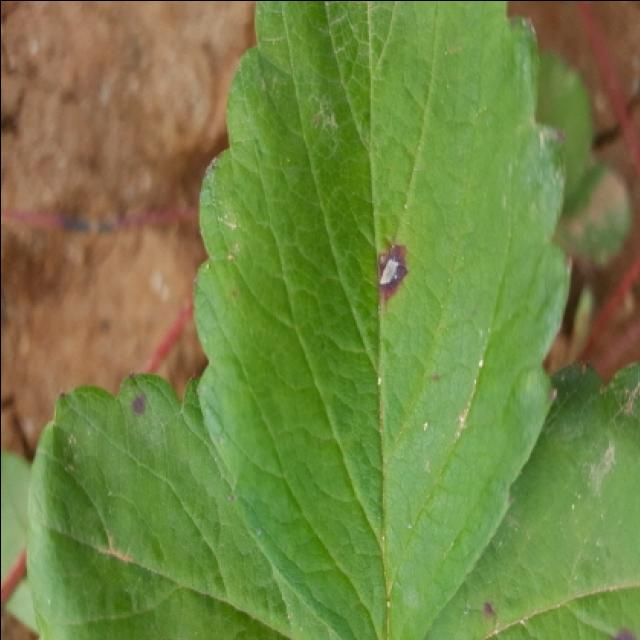Leaf Spot: (190, 2, 572, 640), (24, 371, 335, 640), (422, 357, 638, 640)
